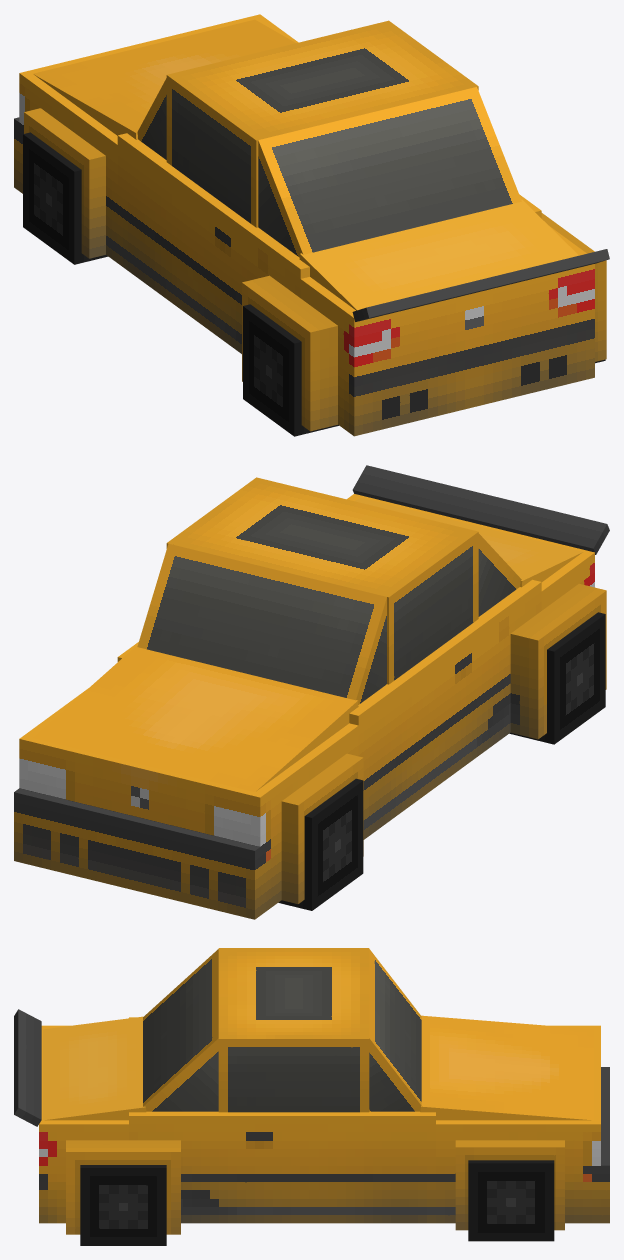
Rendered from game_car.glb.
3 renders of one model, top to bottom at view 1: azimuth 30°, elevation 25°; view 2: azimuth 150°, elevation 25°; view 3: azimuth 270°, elevation 25°, orthographic. The views are drawn at different scales.
Parts seen in each view (by area): view 1: 2476bf9b-a751-54d0-b775-522c771ce12b_16, 89d9b6e7-c507-7ba1-fb02-1599aabf75d2_3, 600d4303-d287-c297-199f-8a9c4f00beba_1, 68c68d8a-d87d-8700-3deb-0b8b3576c1d9_0, b2cb1ec6-c334-c987-c79a-721444f56ab3_14, 246304f4-34a3-a4fb-a7fd-cd0da50a80de_13, 23a6cfb0-b6a0-5ebd-0430-e2fa4aa005b7_11, a21a449d-0d1c-6826-bded-1d768a55bec7_9, ebcb60d4-a73c-d7c4-15a3-3c832fb8b693_4, 942d8e9b-e8d1-0ff1-6244-39a2c83b3f06_12, d6752107-08fc-797c-870c-86883fd99196_5, c5cd5247-477d-9608-e852-c83a0f7ca581_17 (+2 smaller); view 2: 600d4303-d287-c297-199f-8a9c4f00beba_1, 246304f4-34a3-a4fb-a7fd-cd0da50a80de_13, 5c189f44-af4e-23d4-d839-efdec4f4ce86_2, 68c68d8a-d87d-8700-3deb-0b8b3576c1d9_0, 942d8e9b-e8d1-0ff1-6244-39a2c83b3f06_12, 3aa2c063-1ee8-5d33-aa9e-41baef97bb8e_15, c5cd5247-477d-9608-e852-c83a0f7ca581_17, 23a6cfb0-b6a0-5ebd-0430-e2fa4aa005b7_11, ebcb60d4-a73c-d7c4-15a3-3c832fb8b693_4, a21a449d-0d1c-6826-bded-1d768a55bec7_9, d6752107-08fc-797c-870c-86883fd99196_5, b2cb1ec6-c334-c987-c79a-721444f56ab3_14 (+2 smaller); view 3: 68c68d8a-d87d-8700-3deb-0b8b3576c1d9_0, 600d4303-d287-c297-199f-8a9c4f00beba_1, 246304f4-34a3-a4fb-a7fd-cd0da50a80de_13, 89d9b6e7-c507-7ba1-fb02-1599aabf75d2_3, b2cb1ec6-c334-c987-c79a-721444f56ab3_14, 942d8e9b-e8d1-0ff1-6244-39a2c83b3f06_12, 9a8307dc-66b5-a1d2-1926-5061f9a0f178_7, 668df5d8-8f9e-e1a2-4545-29b151b4f18b_8, 5c189f44-af4e-23d4-d839-efdec4f4ce86_2, b6f5fbf3-8c38-4ae5-cf56-109cd6ead49a_10, 2476bf9b-a751-54d0-b775-522c771ce12b_16, 4515c510-d2b1-eecb-bb8e-d894734f9c84_6 (+2 smaller).
Boxes of the visible parts, bbox=[...] form: 2476bf9b-a751-54d0-b775-522c771ce12b_16: bbox=[300, 226, 594, 436]; 89d9b6e7-c507-7ba1-fb02-1599aabf75d2_3: bbox=[258, 87, 521, 257]; 600d4303-d287-c297-199f-8a9c4f00beba_1: bbox=[166, 20, 478, 227]; 68c68d8a-d87d-8700-3deb-0b8b3576c1d9_0: bbox=[117, 133, 541, 353]; b2cb1ec6-c334-c987-c79a-721444f56ab3_14: bbox=[299, 199, 578, 310]; 246304f4-34a3-a4fb-a7fd-cd0da50a80de_13: bbox=[33, 19, 295, 139]; 23a6cfb0-b6a0-5ebd-0430-e2fa4aa005b7_11: bbox=[242, 275, 337, 431]; a21a449d-0d1c-6826-bded-1d768a55bec7_9: bbox=[243, 304, 338, 436]; ebcb60d4-a73c-d7c4-15a3-3c832fb8b693_4: bbox=[23, 132, 107, 264]; 942d8e9b-e8d1-0ff1-6244-39a2c83b3f06_12: bbox=[19, 14, 298, 262]; d6752107-08fc-797c-870c-86883fd99196_5: bbox=[24, 108, 105, 258]; c5cd5247-477d-9608-e852-c83a0f7ca581_17: bbox=[352, 249, 609, 321]; 600d4303-d287-c297-199f-8a9c4f00beba_1: bbox=[166, 477, 478, 684]; 246304f4-34a3-a4fb-a7fd-cd0da50a80de_13: bbox=[33, 646, 358, 792]; 5c189f44-af4e-23d4-d839-efdec4f4ce86_2: bbox=[137, 543, 386, 704]; 68c68d8a-d87d-8700-3deb-0b8b3576c1d9_0: bbox=[117, 579, 541, 839]; 942d8e9b-e8d1-0ff1-6244-39a2c83b3f06_12: bbox=[19, 689, 358, 915]; 3aa2c063-1ee8-5d33-aa9e-41baef97bb8e_15: bbox=[14, 788, 260, 919]; c5cd5247-477d-9608-e852-c83a0f7ca581_17: bbox=[352, 465, 609, 554]; 23a6cfb0-b6a0-5ebd-0430-e2fa4aa005b7_11: bbox=[510, 583, 606, 739]; ebcb60d4-a73c-d7c4-15a3-3c832fb8b693_4: bbox=[278, 778, 363, 910]; a21a449d-0d1c-6826-bded-1d768a55bec7_9: bbox=[509, 612, 605, 744]; d6752107-08fc-797c-870c-86883fd99196_5: bbox=[281, 753, 363, 903]; b2cb1ec6-c334-c987-c79a-721444f56ab3_14: bbox=[354, 497, 582, 587]; 68c68d8a-d87d-8700-3deb-0b8b3576c1d9_0: bbox=[129, 1017, 435, 1223]; 600d4303-d287-c297-199f-8a9c4f00beba_1: bbox=[218, 948, 369, 1112]; 246304f4-34a3-a4fb-a7fd-cd0da50a80de_13: bbox=[420, 1015, 593, 1120]; 89d9b6e7-c507-7ba1-fb02-1599aabf75d2_3: bbox=[143, 949, 218, 1111]; b2cb1ec6-c334-c987-c79a-721444f56ab3_14: bbox=[43, 1016, 146, 1120]; 942d8e9b-e8d1-0ff1-6244-39a2c83b3f06_12: bbox=[436, 1025, 600, 1223]; 9a8307dc-66b5-a1d2-1926-5061f9a0f178_7: bbox=[468, 1160, 554, 1241]; 668df5d8-8f9e-e1a2-4545-29b151b4f18b_8: bbox=[80, 1165, 166, 1245]; 5c189f44-af4e-23d4-d839-efdec4f4ce86_2: bbox=[369, 949, 421, 1111]; b6f5fbf3-8c38-4ae5-cf56-109cd6ead49a_10: bbox=[66, 1140, 180, 1234]; 2476bf9b-a751-54d0-b775-522c771ce12b_16: bbox=[39, 1025, 128, 1223]; 4515c510-d2b1-eecb-bb8e-d894734f9c84_6: bbox=[455, 1140, 564, 1230].
Size of the model in its own units: 33.6 by 23.2 by 66.4.
Materials: 1 (1 with a texture image).
